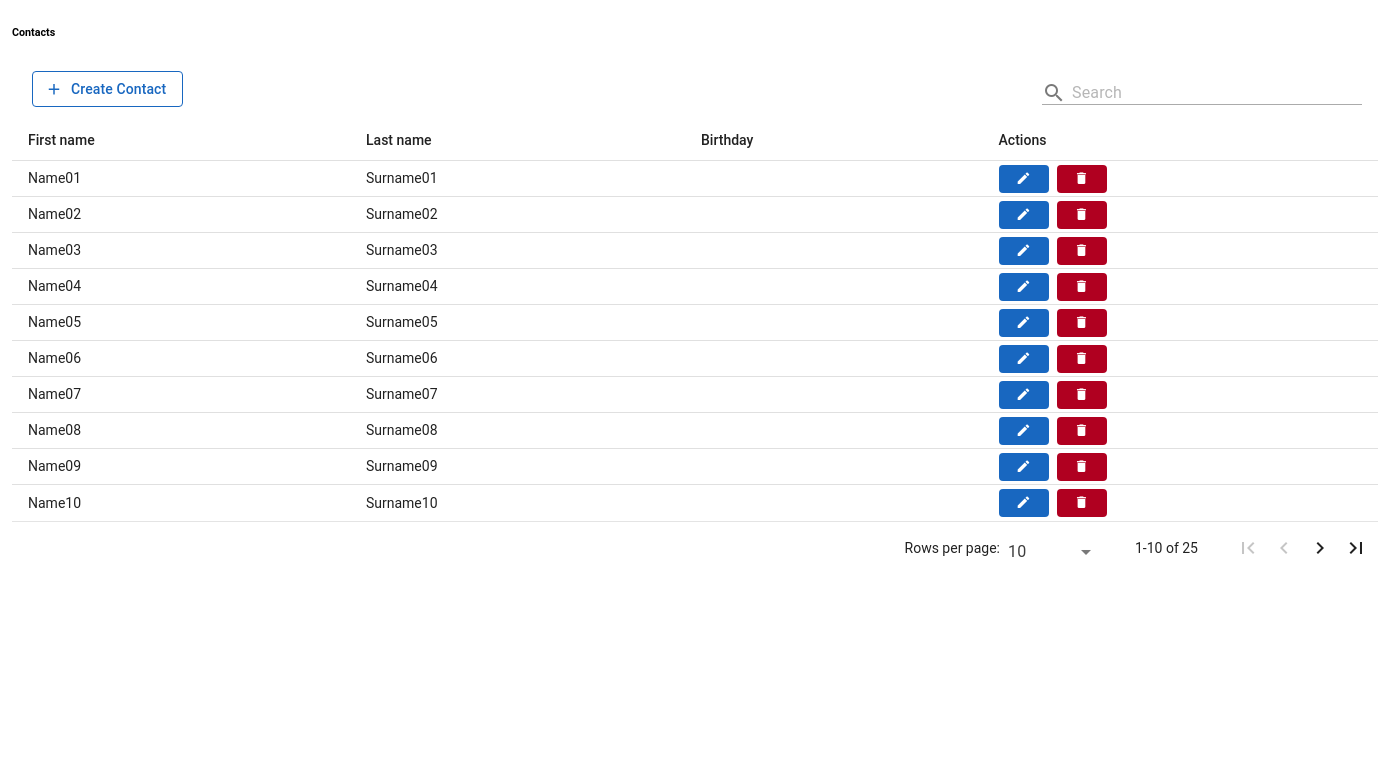
Scenario: ContactsPage › paging › shows the next page of the contacts
What coordinates should you click on to do the following:
click the button named "Next page"
I would click on:
 (1320, 548)
Its box is [1302,530,1338,566].
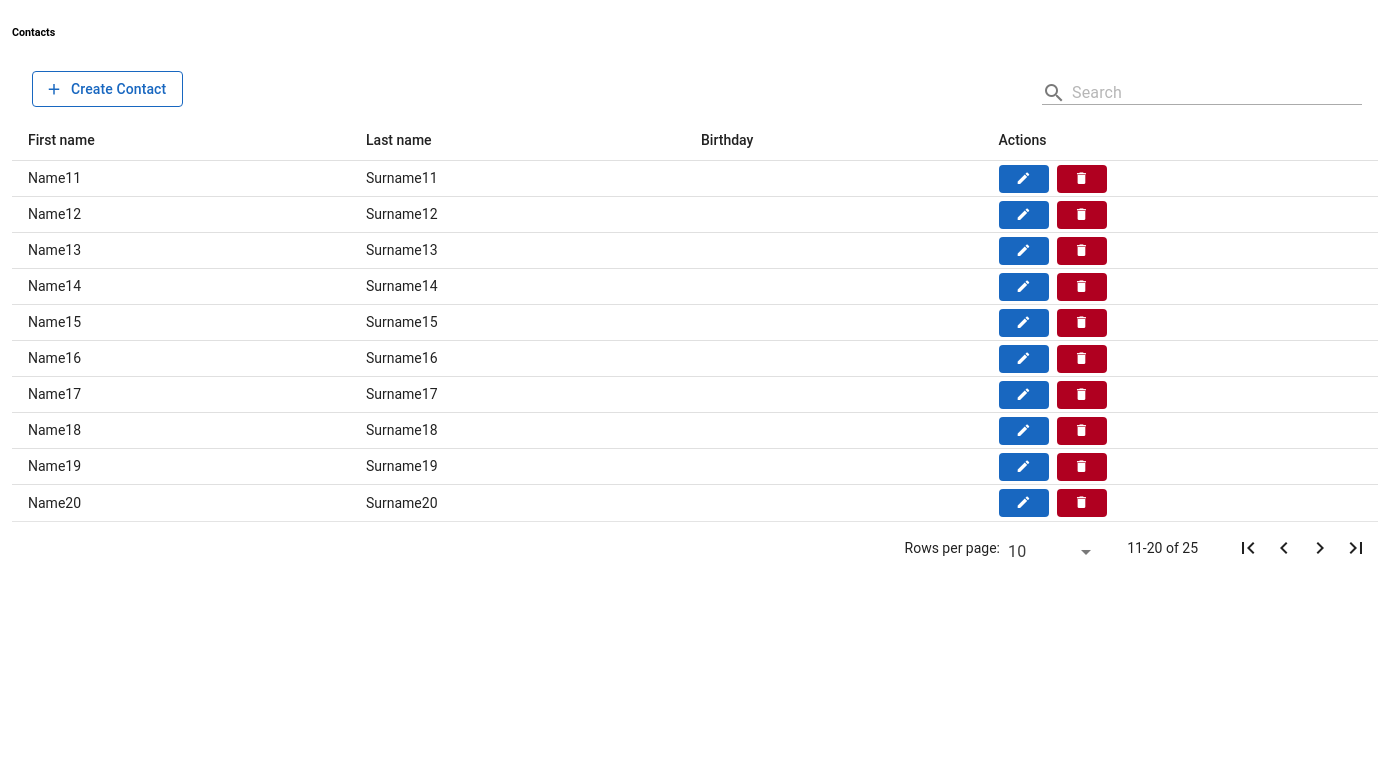
Now the cell "Name11" is shown, box [12,161,350,197]
Now the text "11-20 of 25" is shown, box [1127,540,1198,556]
